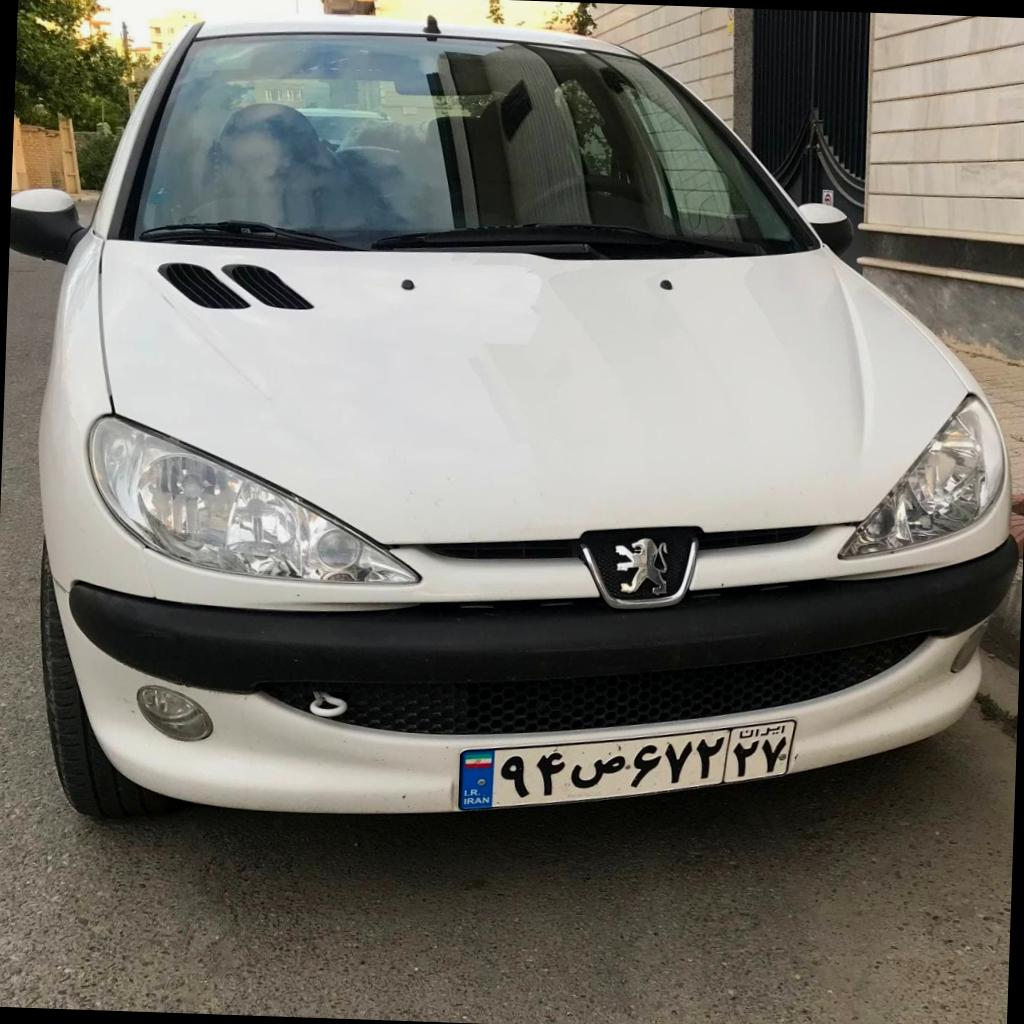Plates: (457, 721, 794, 809)
